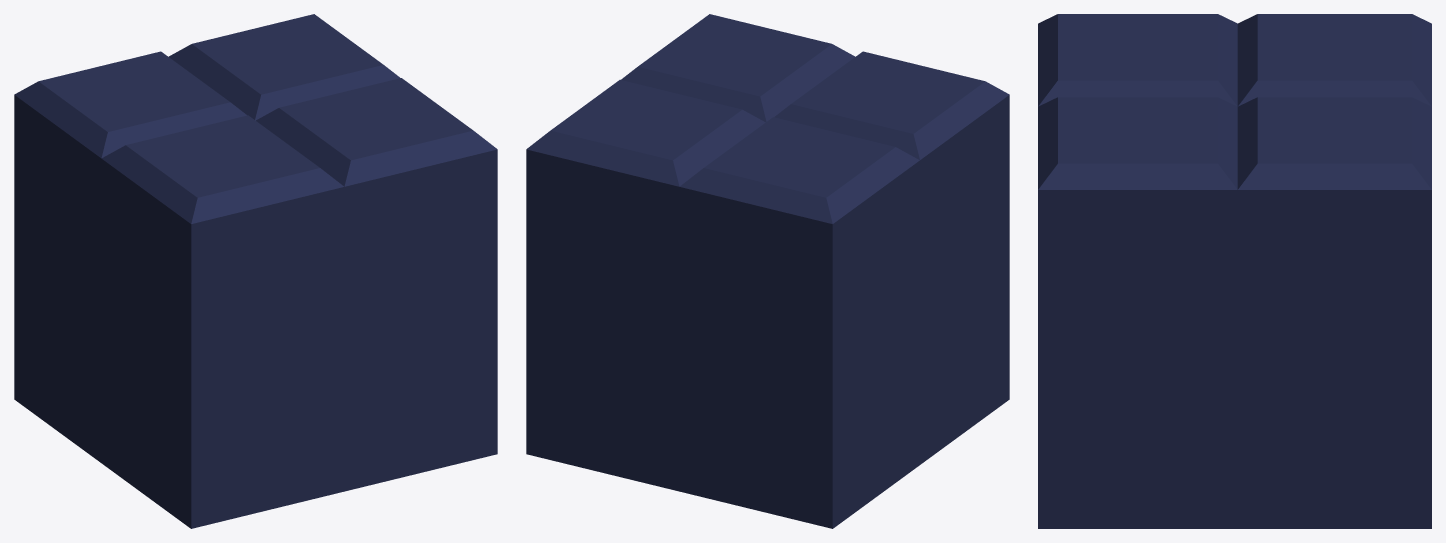
File: Big cube.fbx
The picture shows the model from 3 angles, left to right: view 1: azimuth 30°, elevation 25°; view 2: azimuth 150°, elevation 25°; view 3: azimuth 270°, elevation 25°; orthographic projection. The views are drawn at different scales.
Visible parts, largest first — view 1: obj_0.013; view 2: obj_0.013; view 3: obj_0.013.
Boxes of the visible parts, x1,y1,x2,y2 form: obj_0.013: (14,14,497,528); obj_0.013: (526,14,1009,528); obj_0.013: (1038,14,1431,528).
Bounding box in the file's own units: 2000 × 2000 × 2000.
